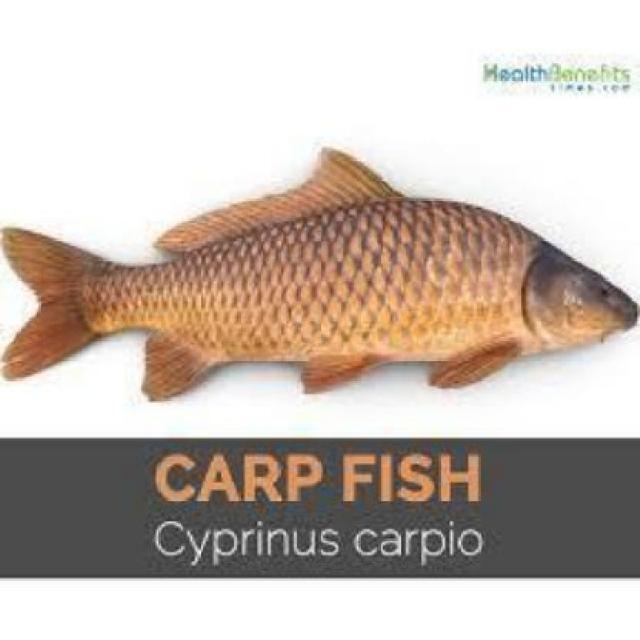ikan-mas: (4, 179, 638, 384)
